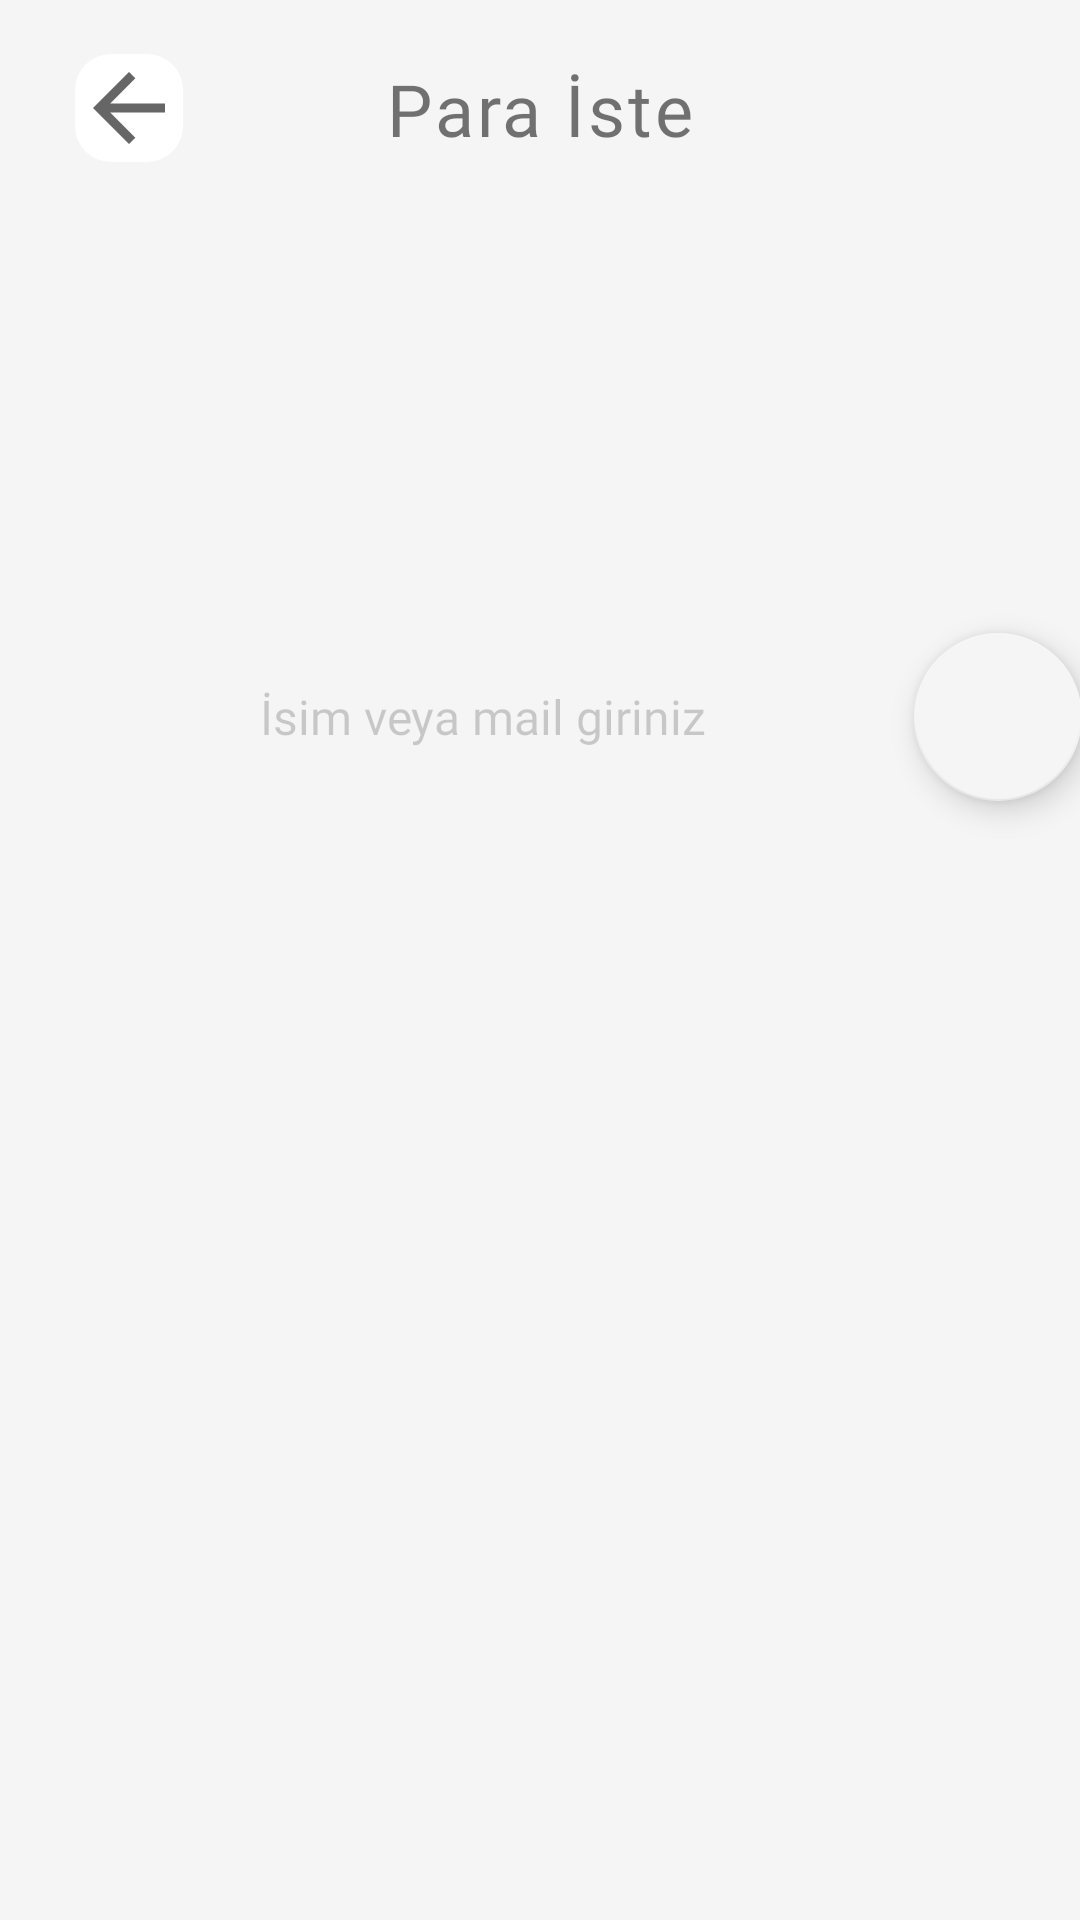

Locate icon controls on the screen. Image size 1080 x 1920, boxes as (x1, y1, x2, y2).
back: (75, 54, 183, 162)
